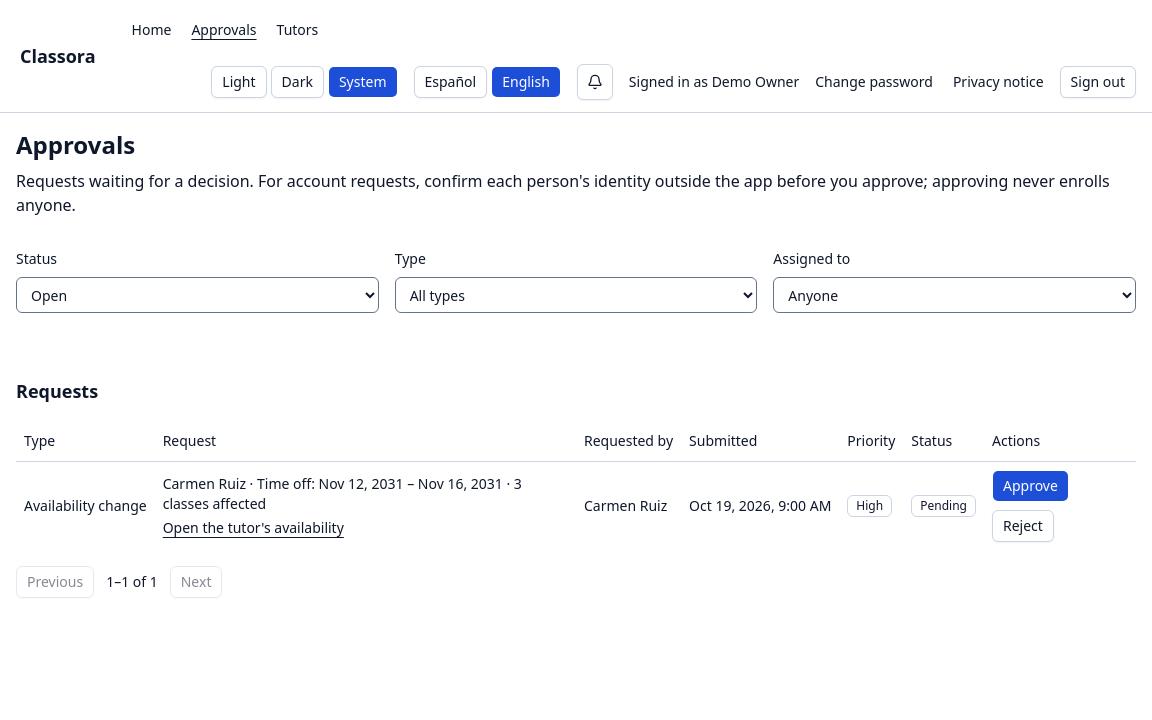
Test: availability changes (#63 H2) › the row links to the availability; the dialog lists the classes
Click the button "Approve": (1030, 486) [992,470,1069,502]
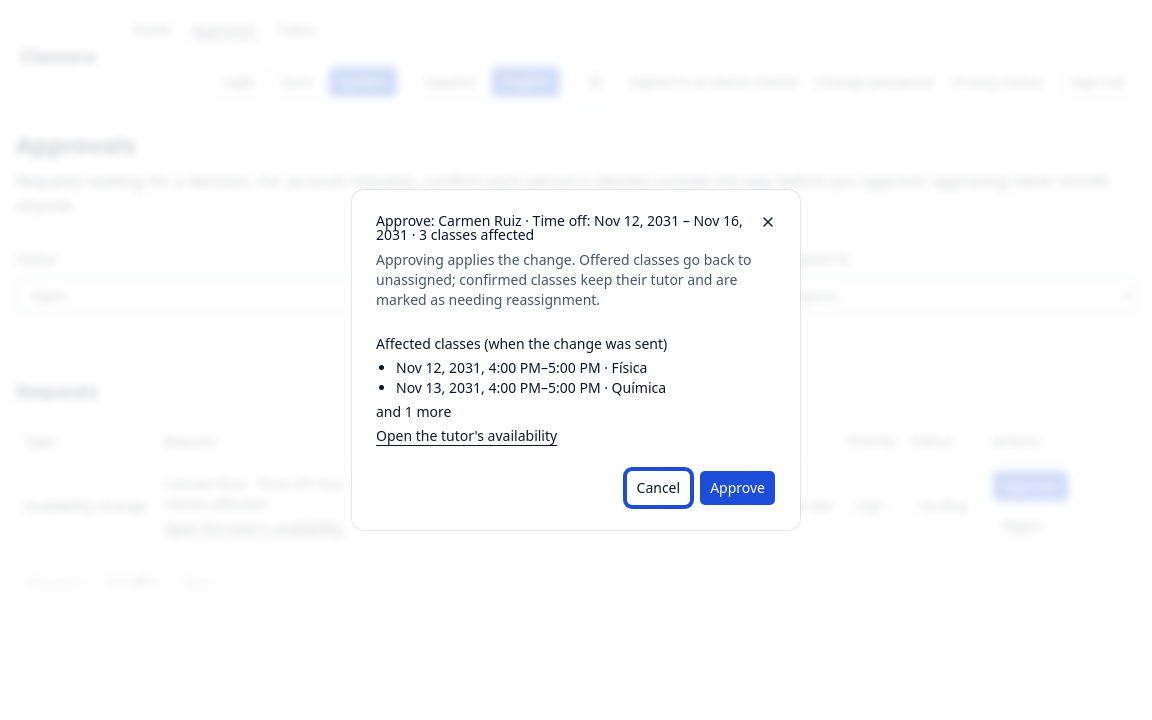
Expected: the dialog shows "Affected classes", [376,334,667,353]
Expected: the dialog shows "Física", [396,358,647,377]
Expected: the dialog shows "and 1 more", [376,402,451,421]
